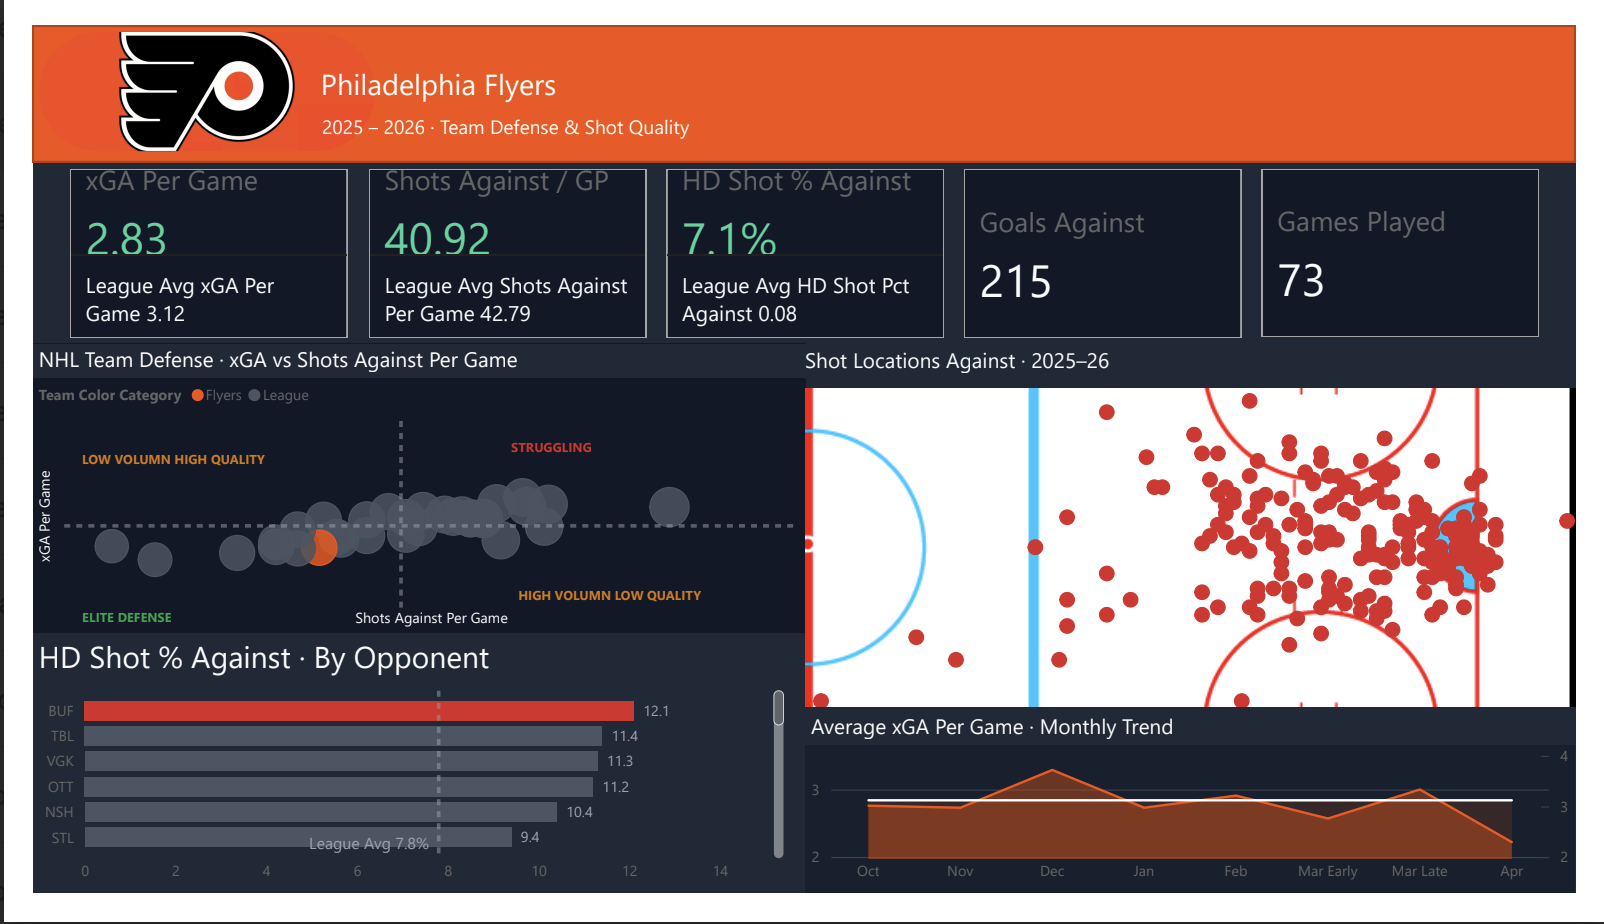

The dashboard page shown, as its layout file describes it:
{"tool":"powerbi","page":{"name":"Defense","canvas":[1280,720],"ordinal":2},"visuals":[{"type":"shape","box":[0,0,1280,112.6],"z":0},{"type":"image","box":[0,0,289.4,109],"z":1000},{"type":"textbox","box":[234.3,25.7,225.7,45.7],"z":2000},{"type":"textbox","box":[234.9,67.8,325.8,42.4],"z":3000},{"type":"cardVisual","fields":{"Data":["_Measures_Defense.Flyers xGA Per Game"]},"box":[26.4,114,240,150.2],"z":4000},{"type":"cardVisual","fields":{"Data":["_Measures_Defense.Flyers Shots Against Per Game"]},"box":[273.5,114,240,150.2],"z":5000},{"type":"cardVisual","fields":{"Data":["_Measures_Defense.Flyers HD Shot Pct Against"]},"box":[520.7,114,240,150.2],"z":6000},{"type":"cardVisual","fields":{"Data":["_Measures_Defense.Flyers Goals Against"]},"box":[767.8,114,240,150.2],"z":7000},{"type":"cardVisual","fields":{"Data":["_Measures_Defense.Flyers Games Played Defense"]},"box":[1015,114,240,149.5],"z":8000},{"type":"scatterChart","title":"NHL Team Defense · xGA vs Shots Against Per Game","fields":{"X":["Avg(flyers_vs_league_defense.shots_against_per_game)"],"Y":["Avg(flyers_vs_league_defense.xGA_per_game)"],"Series":["flyers_vs_league_defense.Team Color Category"],"Size":["Sum(flyers_vs_league_defense.total_shots_against)"],"Category":["flyers_vs_league_defense.defending_team"]},"box":[0,263.8,640.6,239.9],"z":9000},{"type":"textbox","box":[36.4,473.6,167.1,31.4],"z":10000},{"type":"textbox","box":[398.2,456,167.1,35.2],"z":11000},{"type":"textbox","box":[36.4,342.9,177.1,35.2],"z":12000},{"type":"textbox","box":[391.9,332.9,173.3,45.2],"z":13000},{"type":"clusteredBarChart","title":"HD Shot % Against · By Opponent","fields":{"Category":["HD_By_Opponent.teamCode"],"Y":["Avg(HD_By_Opponent.hd_shot_pct)"]},"box":[0,506.2,628.1,213.5],"z":14000},{"type":"scatterChart","title":"Shot Locations Against · 2025–26","fields":{"X":["Flyers_Shots_Against.x_map"],"Y":["Flyers_Shots_Against.y_map"],"Series":["Flyers_Shots_Against.Outcome Color"]},"box":[640.6,265,639.4,329.1],"z":15000},{"type":"lineChart","title":"Average xGA Per Game · Monthly Trend","fields":{"Y":["Avg(Flyers_xGA_Monthly.avg_xGA_per_game)"],"Y2":["_Measures_Defense.League Avg xGA Line"],"Category":["Flyers_xGA_Monthly.month_block"]},"box":[640.6,569,639.4,150.7],"z":16000}]}

Visuals, with their boxes in screenshot pixels (x1, y1, x2, y2), scaled from the page's 1280x720 canvas onto the 1604x924 screenshot:
shape: box(0, 0, 1603, 145)
image: box(0, 0, 363, 140)
textbox: box(294, 33, 576, 92)
textbox: box(294, 87, 703, 141)
cardVisual - _Measures_Defense.Flyers xGA Per Game: box(33, 146, 334, 339)
cardVisual - _Measures_Defense.Flyers Shots Against Per Game: box(343, 146, 643, 339)
cardVisual - _Measures_Defense.Flyers HD Shot Pct Against: box(653, 146, 953, 339)
cardVisual - _Measures_Defense.Flyers Goals Against: box(962, 146, 1263, 339)
cardVisual - _Measures_Defense.Flyers Games Played Defense: box(1272, 146, 1573, 338)
"NHL Team Defense · xGA vs Shots Against Per Game" scatterChart: box(0, 339, 803, 646)
textbox: box(46, 608, 255, 648)
textbox: box(499, 585, 708, 630)
textbox: box(46, 440, 268, 485)
textbox: box(491, 427, 708, 485)
"HD Shot % Against · By Opponent" clusteredBarChart: box(0, 650, 787, 923)
"Shot Locations Against · 2025–26" scatterChart: box(803, 340, 1603, 762)
"Average xGA Per Game · Monthly Trend" lineChart: box(803, 730, 1603, 923)
